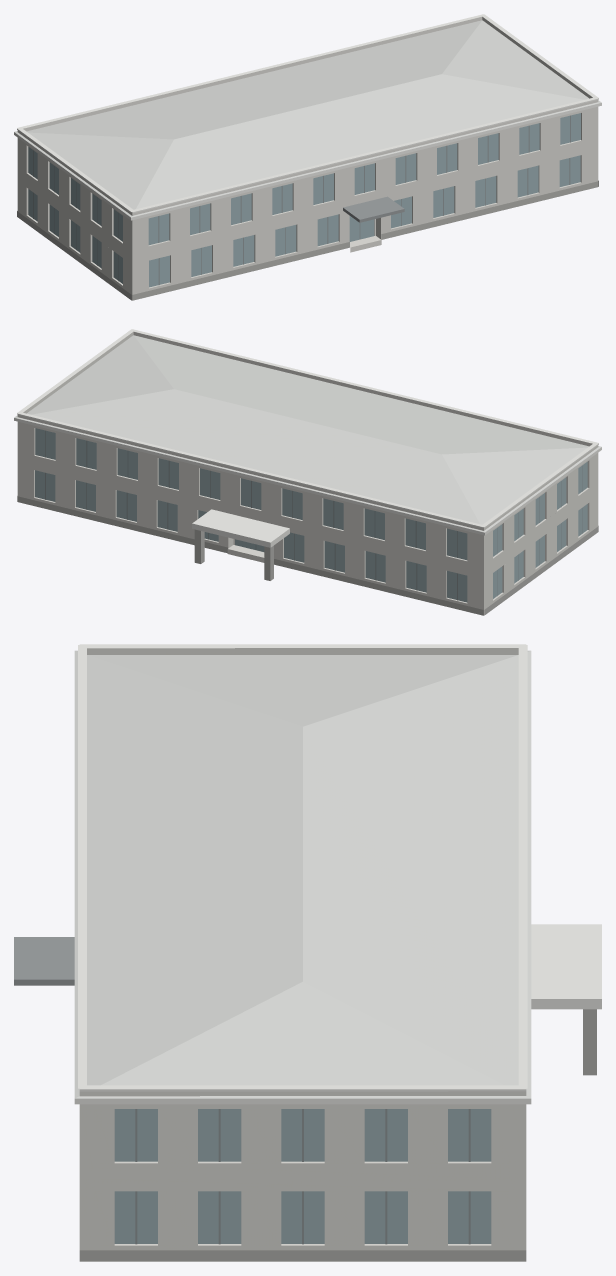
3 renders of one model, top to bottom at view 1: azimuth 30°, elevation 25°; view 2: azimuth 150°, elevation 25°; view 3: azimuth 270°, elevation 25°, orthographic. The views are drawn at different scales.
Visible parts, largest first — view 1: b115951815__roof, b115951815__wall, b115951815__glass, b115951815__trim, b115951815__parapet, b115951815__base, b115951815__frame, b115951815__canopy; view 2: b115951815__roof, b115951815__wall, b115951815__glass, b115951815__trim, b115951815__base, b115951815__parapet, b115951815__frame, b115951815__entranceThreshold_1; view 3: b115951815__roof, b115951815__wall, b115951815__trim, b115951815__glass, b115951815__base, b115951815__parapet, b115951815__canopy, b115951815__frame.
Boxes of the visible parts, x1,y1,x2,y2 form: b115951815__roof: (14,20,601,217); b115951815__wall: (17,106,598,300); b115951815__glass: (28,113,580,287); b115951815__trim: (14,14,601,220); b115951815__parapet: (17,16,598,215); b115951815__base: (17,180,598,300); b115951815__frame: (33,115,570,285); b115951815__canopy: (343,196,404,222); b115951815__roof: (14,335,601,532); b115951815__wall: (17,421,598,615); b115951815__glass: (35,428,587,602); b115951815__trim: (14,329,601,547); b115951815__base: (17,496,598,615); b115951815__parapet: (17,331,598,530); b115951815__frame: (45,430,582,600); b115951815__entranceThreshold_1: (227,545,264,562); b115951815__roof: (74,650,531,1098); b115951815__wall: (79,1104,526,1250); b115951815__trim: (74,644,601,1104); b115951815__glass: (114,1109,491,1243); b115951815__base: (79,1009,596,1261); b115951815__parapet: (79,648,526,1096); b115951815__canopy: (14,937,74,985); b115951815__frame: (135,1109,470,1244).
Size of the model in its own units: 42.02 by 8.5 by 23.31.
